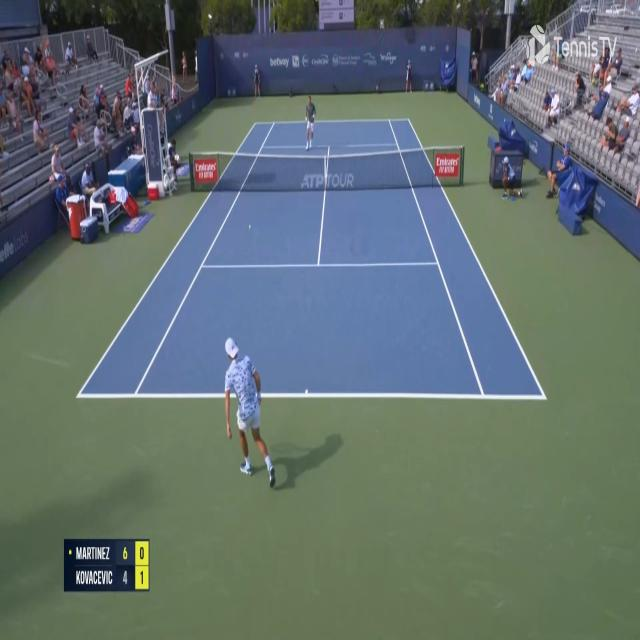tennis-player: (223, 334, 280, 489), (304, 92, 317, 152)
